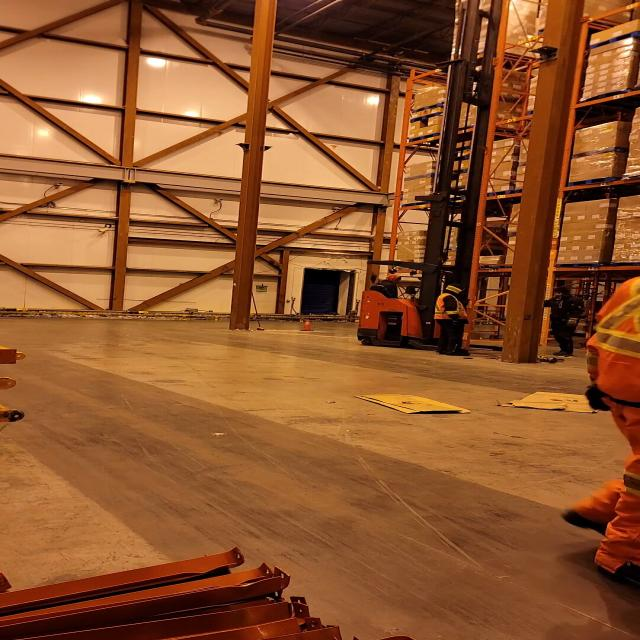forklift: (350, 192, 512, 356)
human: (559, 272, 640, 576), (425, 282, 482, 360), (539, 282, 588, 360), (359, 272, 405, 299)
objectofinterest: (469, 9, 557, 352), (489, 388, 608, 414), (349, 392, 476, 416)
